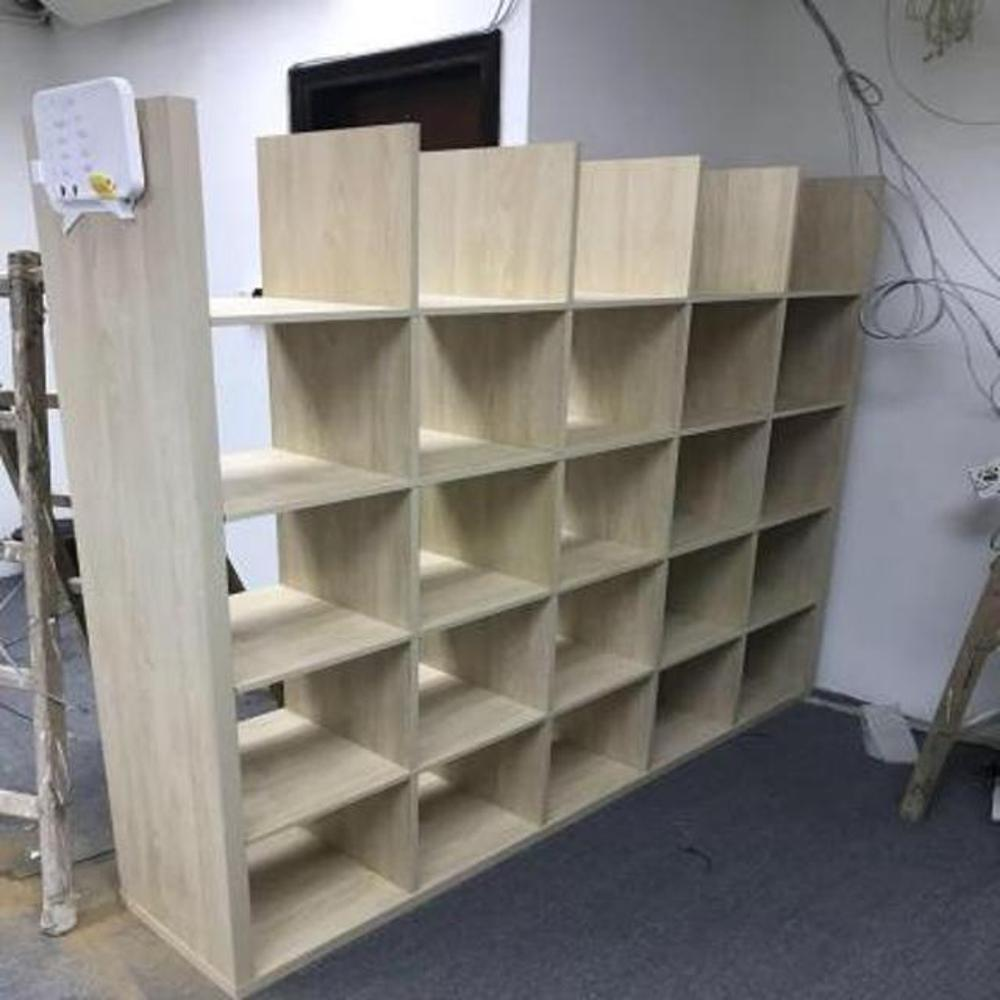lamp: (27, 90, 898, 999)
